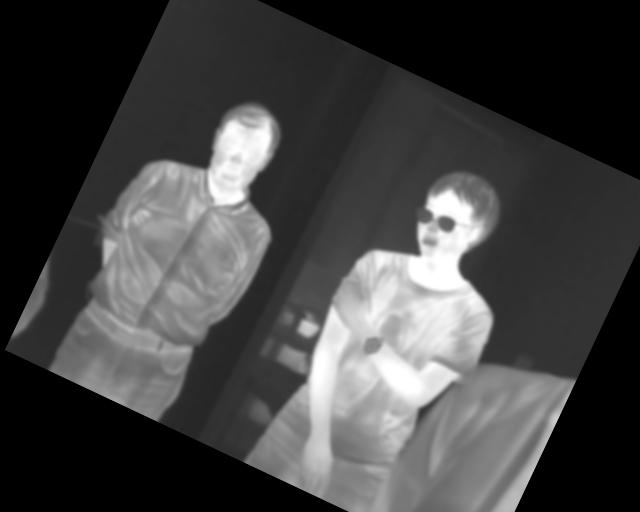face: (400, 158, 512, 280), (191, 89, 292, 204)
